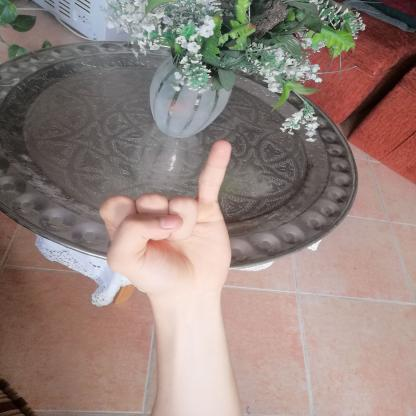MEEM: (81, 127, 244, 310)
